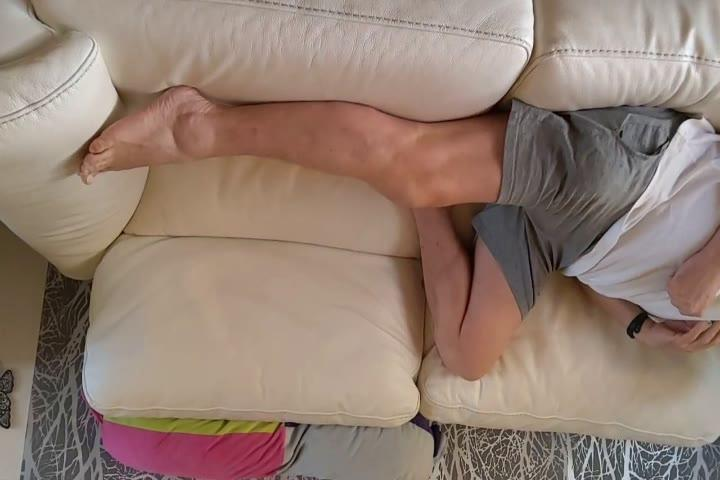lowerbody: (73, 81, 690, 390)
